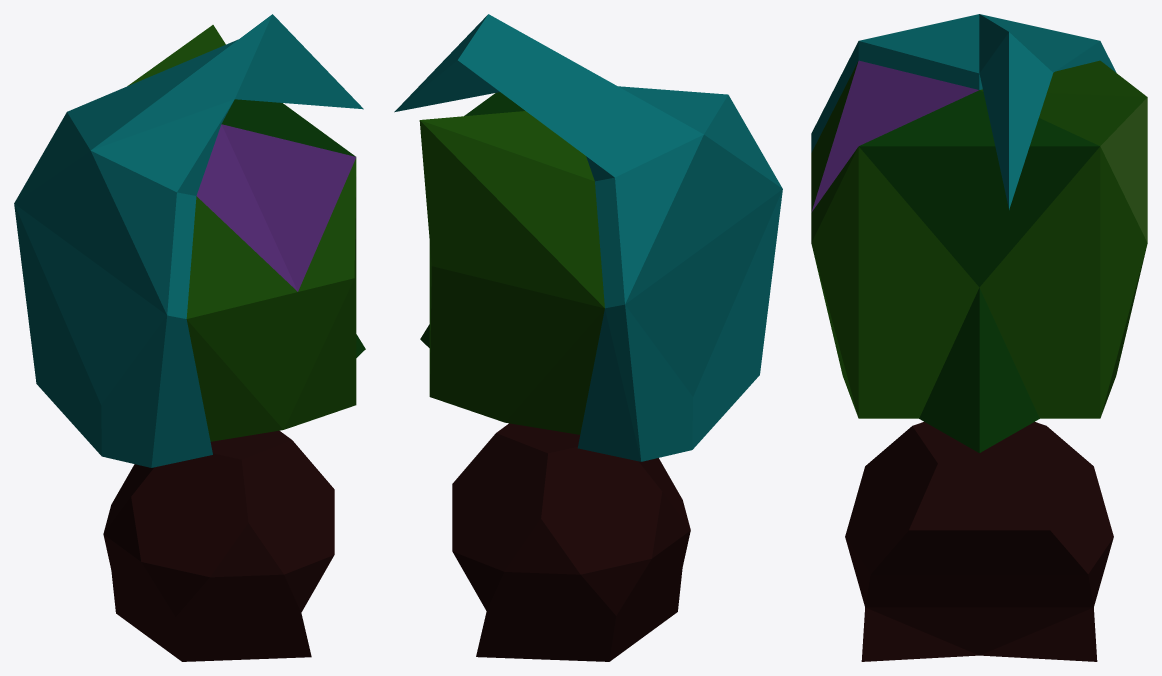
The model's file is goblin_priest.glb.
3 views of the same model, side by side, from view 1: azimuth 30°, elevation 25°; view 2: azimuth 150°, elevation 25°; view 3: azimuth 270°, elevation 25° (orthographic). The views are drawn at different scales.
Parts seen in each view (by area): view 1: Goblin_priest; view 2: Goblin_priest; view 3: Goblin_priest.
Boxes of the visible parts, x1,y1,x2,y2 form: Goblin_priest: [14, 14, 365, 661]; Goblin_priest: [394, 14, 782, 661]; Goblin_priest: [811, 14, 1147, 661].
Bounding box in the file's own units: 2.03 × 3.98 × 1.88.
1 material, 1 textured.
